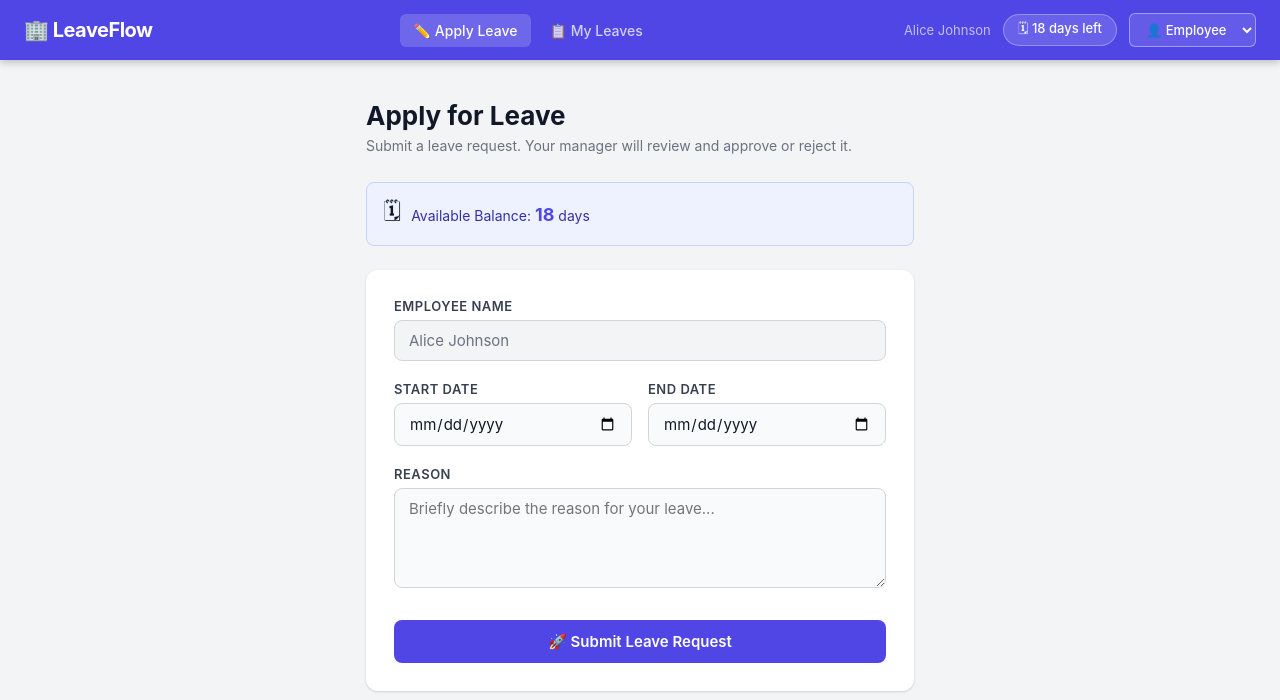
it: Leave Management – E2E Tests › Navigation and role switcher › shows correct nav items for each role
# Employee role
Select "👤 Employee" in the dropdown with test id "role-switcher" at (1193, 30), box [1129,13,1256,47]
Expected: the link with test id "nav-apply" is shown, [400,14,532,47]
Expected: the link with test id "nav-my-leaves" is shown, [550,22,643,39]
# Manager role
Select "👔 Manager" in the dropdown with test id "role-switcher" at (1193, 30), box [1129,13,1256,47]
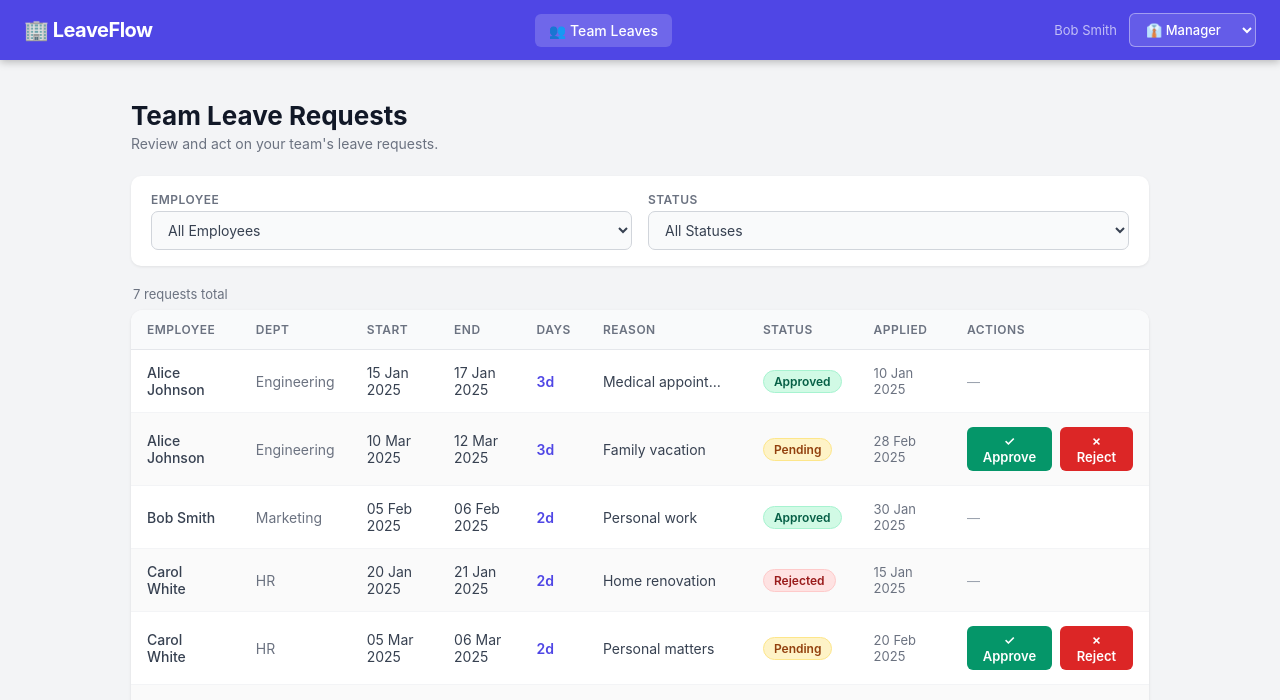
Expected: the link with test id "nav-team" is shown, [535,14,672,47]
# Admin role
Select "🔧 Admin" in the dropdown with test id "role-switcher" at (1193, 30), box [1129,13,1256,47]
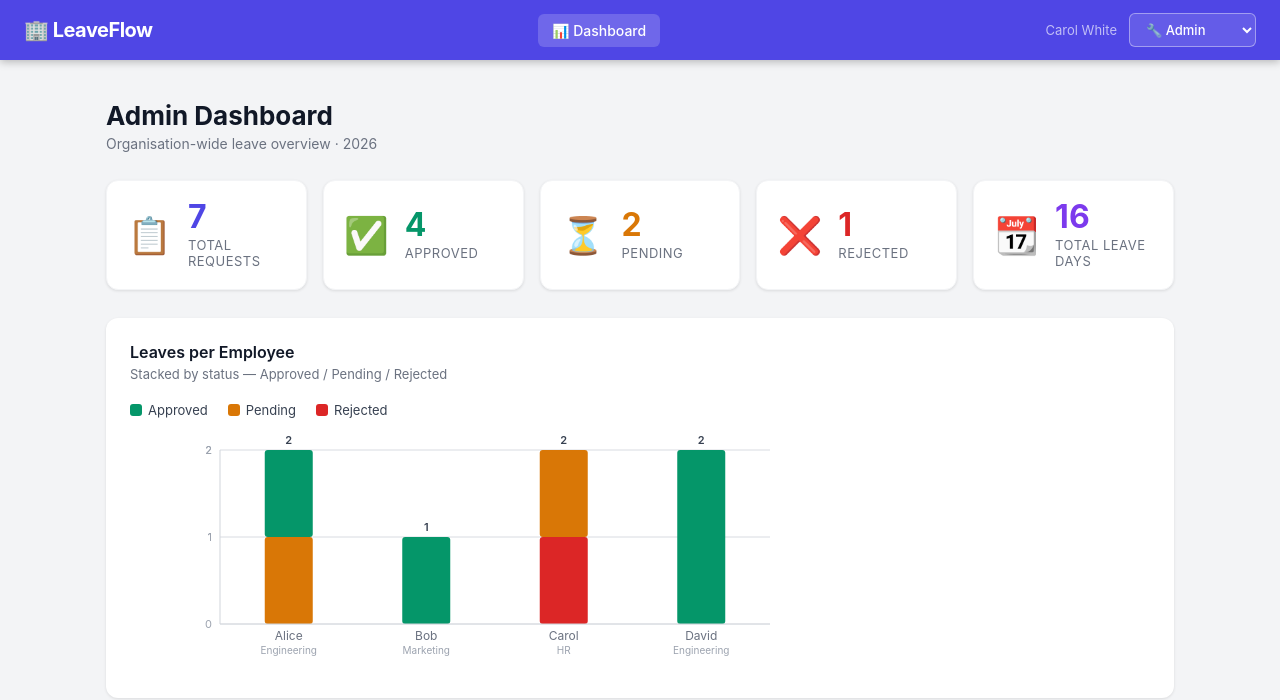
Expected: the link with test id "nav-dashboard" is shown, [538,14,660,47]
